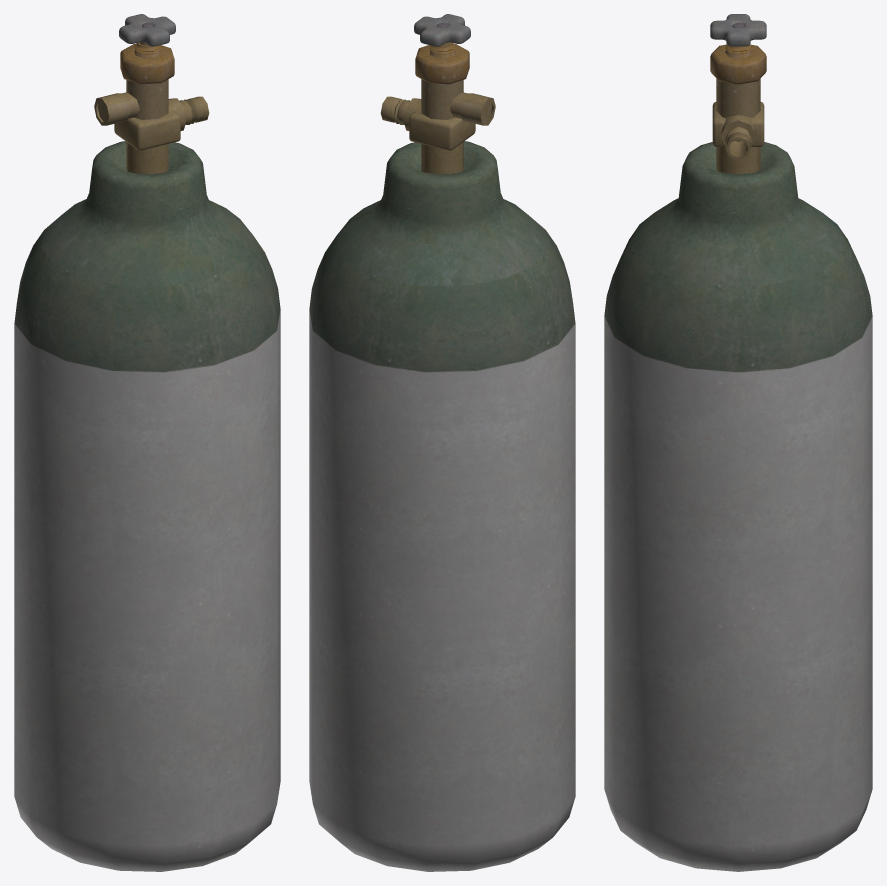
Rendered from OxygenTank.fbx.
3 renders of one model, left to right at view 1: azimuth 30°, elevation 25°; view 2: azimuth 150°, elevation 25°; view 3: azimuth 270°, elevation 25°, orthographic.
Visible parts, largest first — view 1: Cylinder.036; view 2: Cylinder.036; view 3: Cylinder.036.
Part boxes in pixels (left/top/right/bottom): Cylinder.036: left=14, top=14, right=280, bottom=871; Cylinder.036: left=309, top=14, right=575, bottom=871; Cylinder.036: left=604, top=14, right=872, bottom=871.
Bounding box in the file's own units: 11.63 × 38.58 × 11.63.
